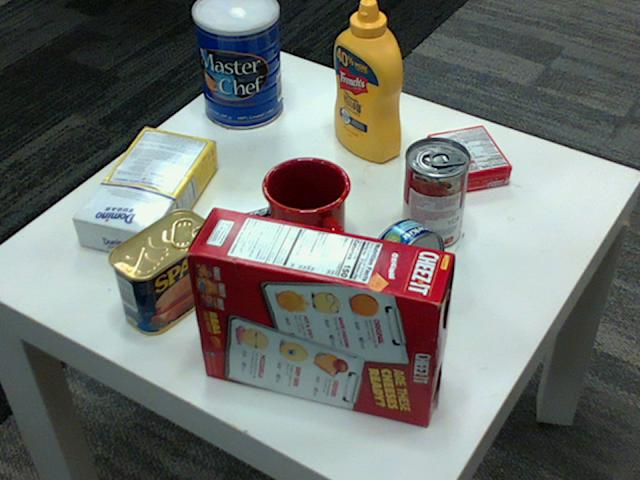cracker_box: (185, 207, 451, 424)
gelatin_box: (428, 126, 513, 193)
large_marker: (197, 199, 303, 245)
master_chef_can: (191, 0, 281, 128)
mug: (262, 154, 351, 261)
mustard_bottle: (334, 0, 401, 162)
potted_meat_can: (109, 209, 215, 335)
sugar_box: (73, 125, 218, 258)
tomato_soup_can: (401, 137, 469, 249)
tuna_fish_can: (363, 218, 444, 306)
